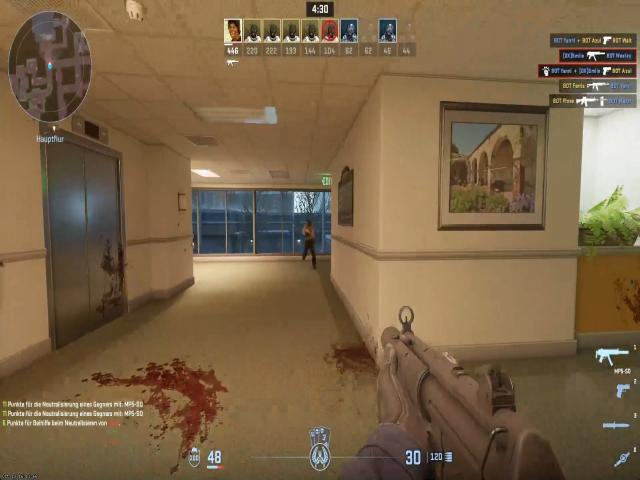T: (299, 210, 318, 265)
T-Head: (304, 216, 314, 231)
